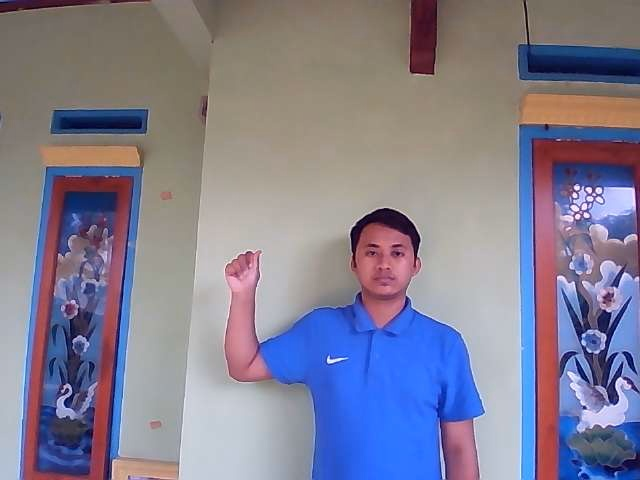A: (224, 249, 263, 294)
